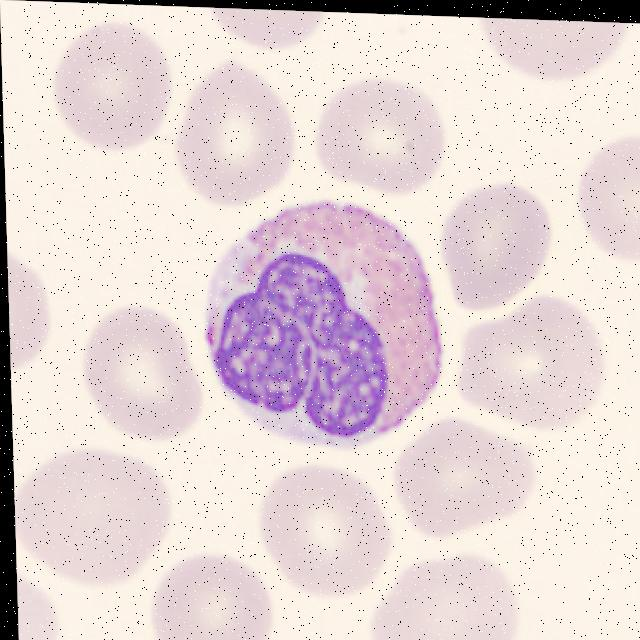eosinophil: (195, 200, 445, 454)
rbc: (446, 272, 606, 441), (33, 431, 177, 603), (37, 20, 171, 190), (180, 51, 306, 223), (83, 313, 204, 454), (446, 157, 546, 320), (320, 70, 450, 194), (359, 552, 542, 640), (394, 422, 519, 535), (465, 17, 635, 99), (269, 490, 392, 594), (557, 141, 640, 275), (7, 253, 72, 398), (163, 573, 285, 640), (193, 7, 345, 57), (17, 573, 79, 640)
